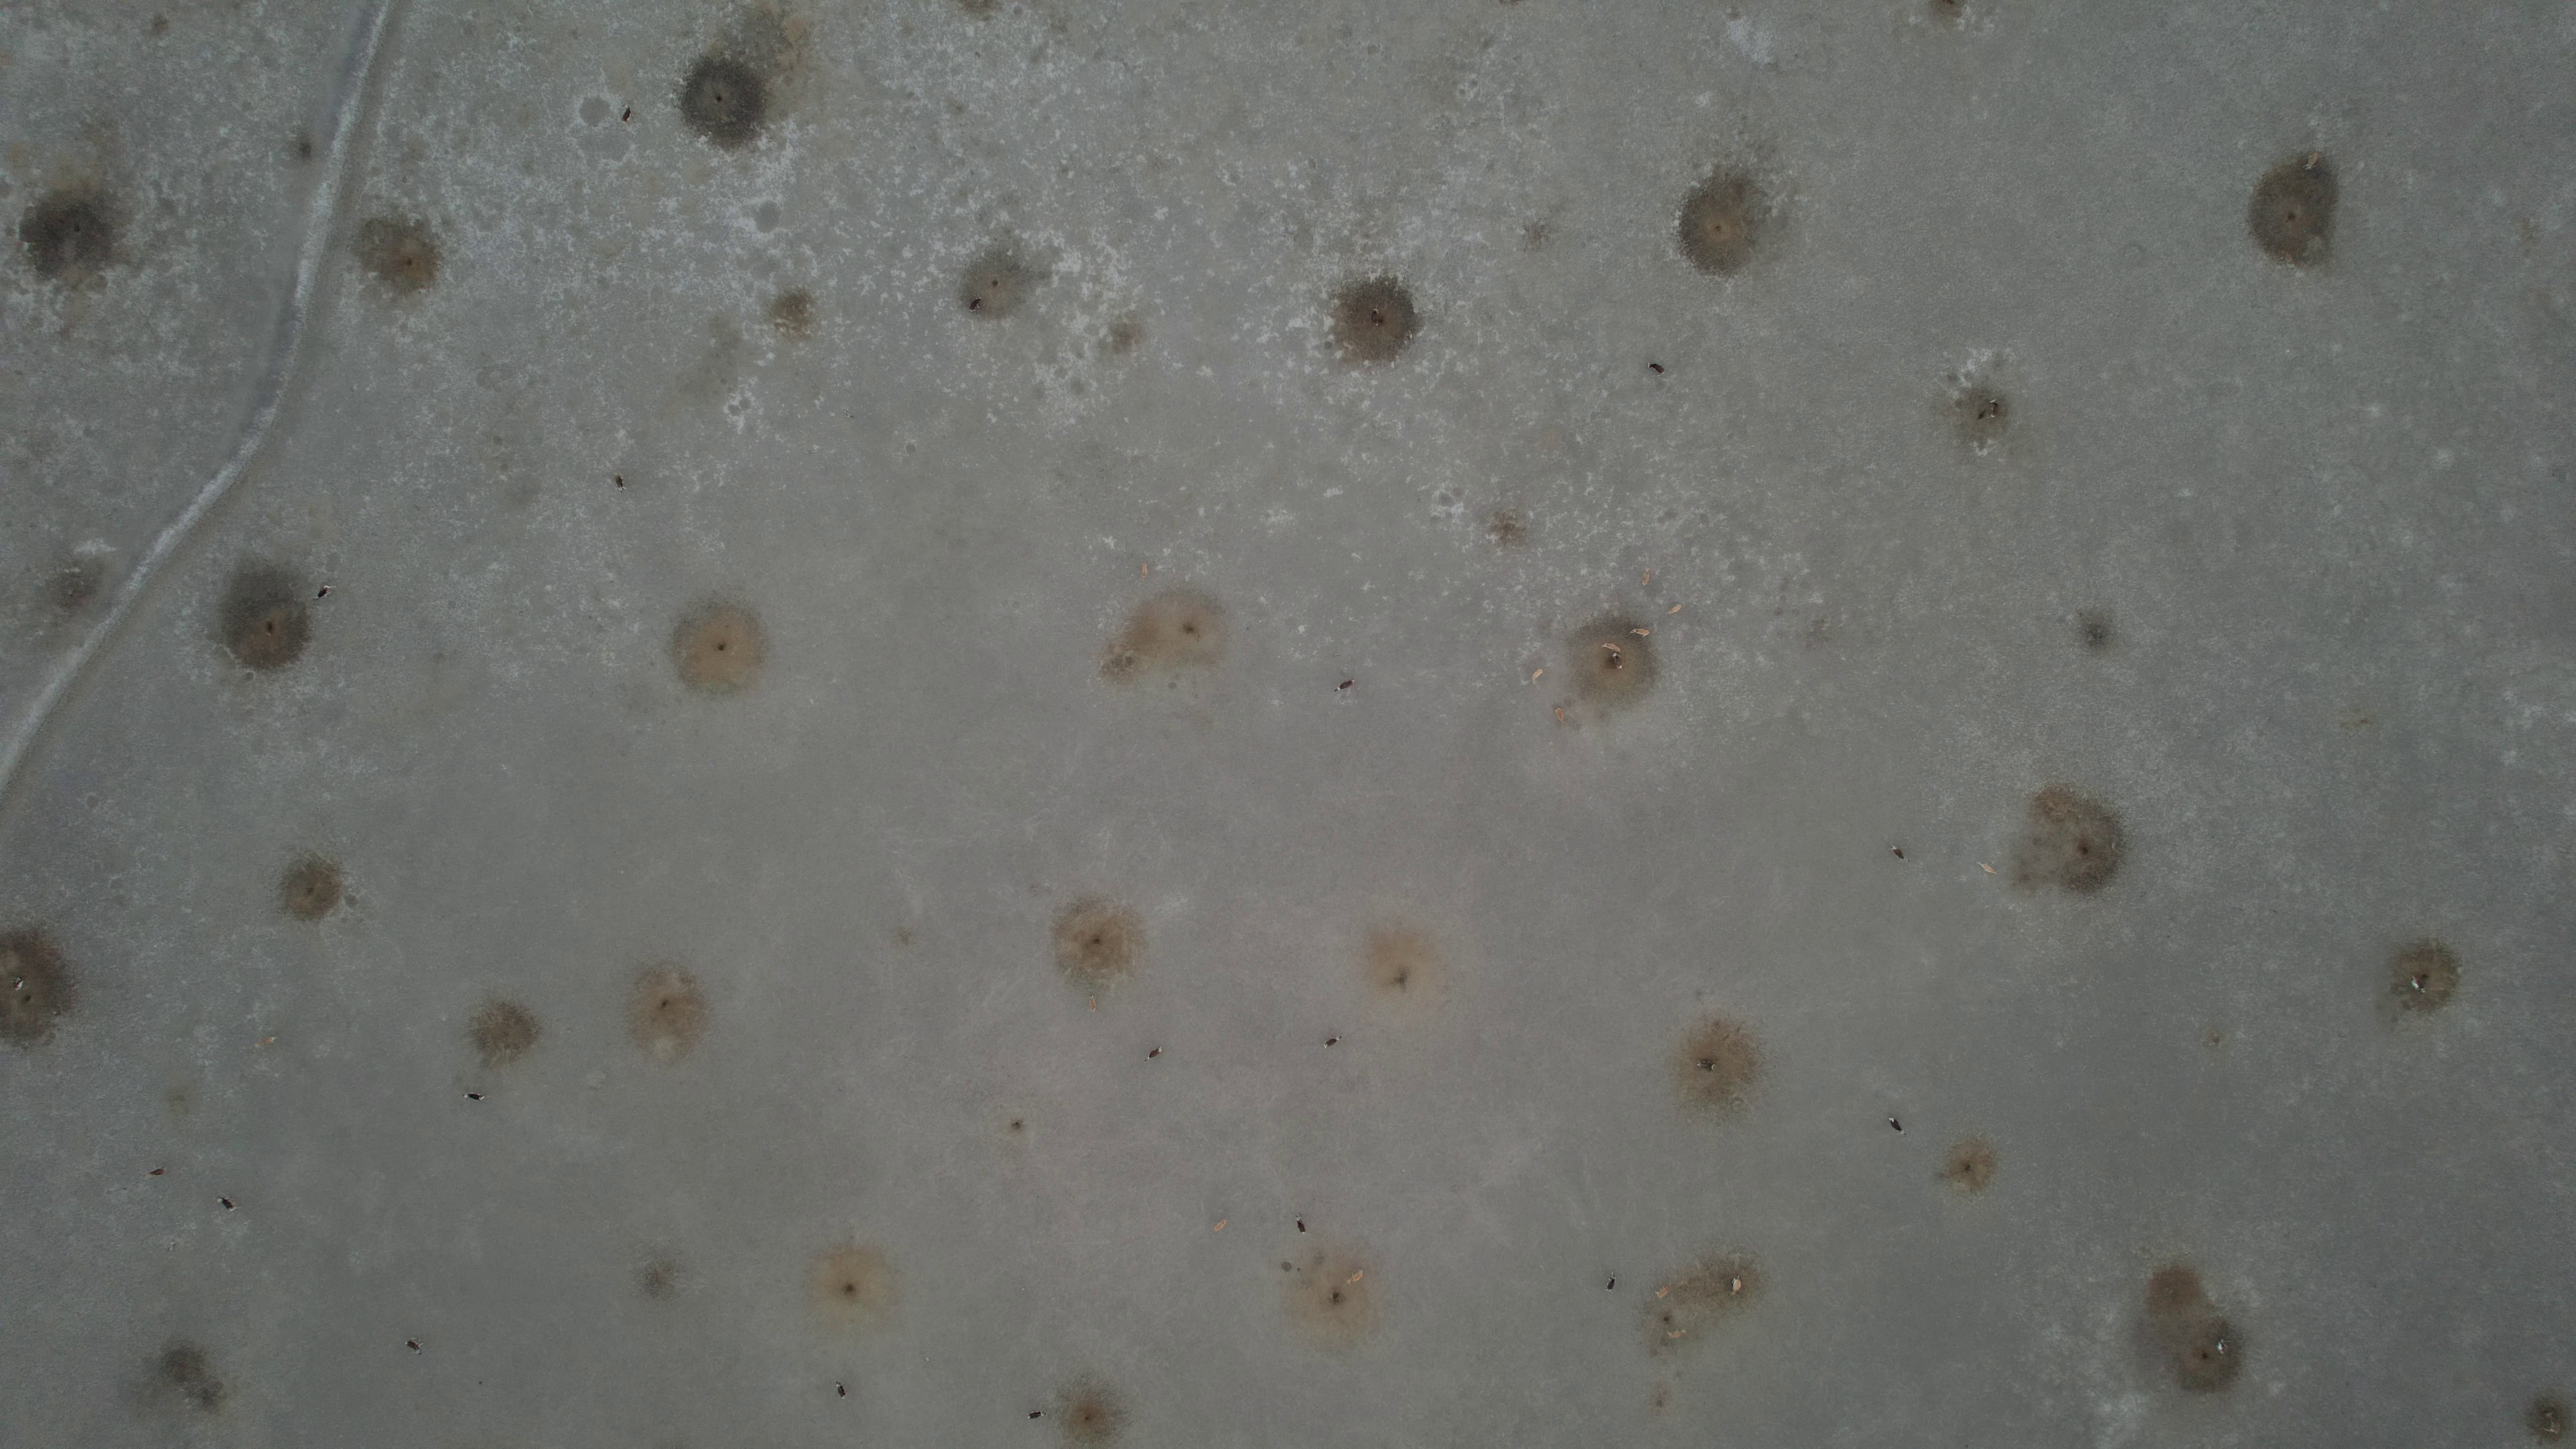bbfemale: (2302, 150, 2321, 172), (1552, 704, 1569, 727), (253, 1035, 280, 1049), (1138, 559, 1150, 587), (1974, 860, 1997, 874), (1345, 1269, 1364, 1284), (1086, 993, 1099, 1017), (1654, 1283, 1672, 1299), (1730, 1276, 1743, 1297), (1599, 642, 1622, 653), (1667, 1327, 1686, 1339), (1629, 628, 1651, 639), (1212, 1217, 1228, 1231), (1665, 603, 1683, 616), (1530, 669, 1543, 685), (1642, 566, 1651, 587)
bbmale: (2541, 1408, 2562, 1438), (1888, 842, 1913, 867), (1884, 1113, 1909, 1138), (1290, 1210, 1309, 1237), (832, 1378, 849, 1401), (310, 584, 333, 602), (218, 1196, 242, 1212), (1143, 1044, 1161, 1065), (403, 1338, 425, 1355), (9, 975, 27, 994), (1985, 396, 1999, 419), (2410, 975, 2426, 994), (1645, 363, 1667, 377), (1322, 1035, 1343, 1049), (1608, 648, 1622, 669), (1605, 1269, 1617, 1292), (968, 295, 984, 313), (619, 104, 633, 124), (1334, 679, 1355, 692), (462, 1092, 485, 1102), (614, 474, 626, 494), (145, 1166, 166, 1177), (2215, 1339, 2229, 1355), (1695, 1060, 1716, 1070), (1028, 1410, 1047, 1421), (1371, 306, 1380, 326)
